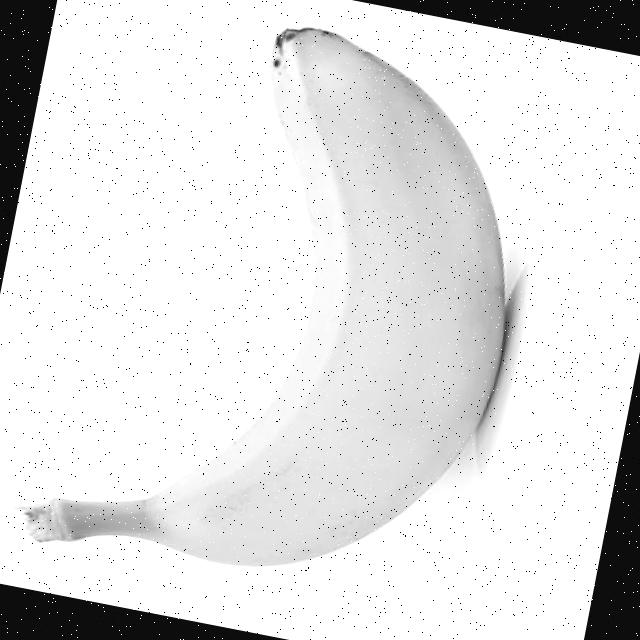Ripe: (37, 0, 560, 621)
